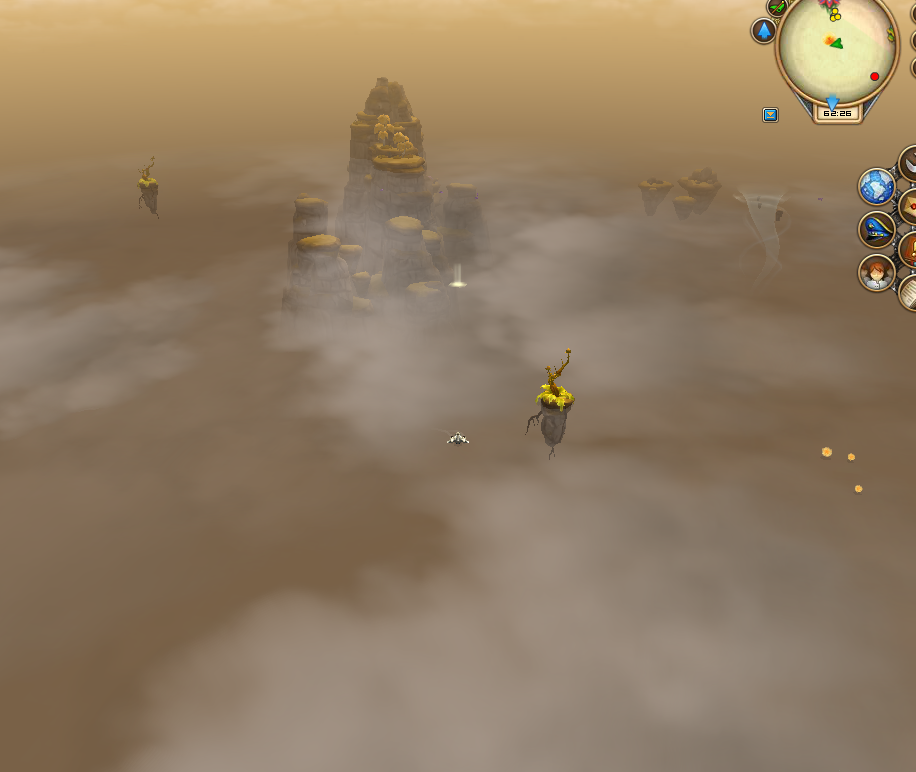dandelion-empty: (523, 346, 580, 451)
dandelion-full: (132, 150, 165, 221)
fluff: (818, 442, 836, 462), (846, 450, 858, 465), (854, 480, 863, 497)
